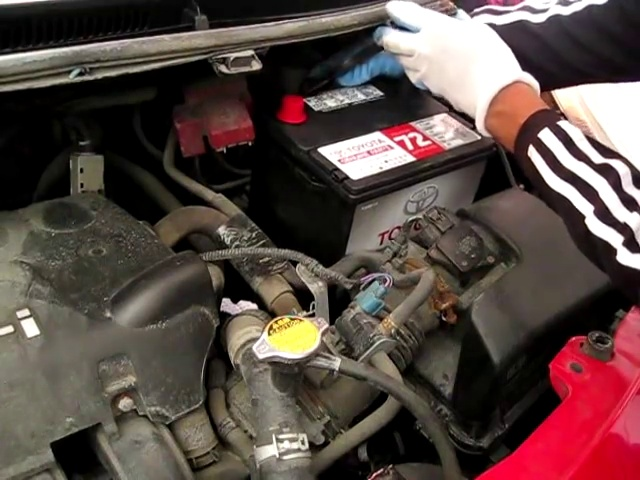battery: (270, 75, 483, 179)
pos_disconnected: (180, 83, 323, 149)
